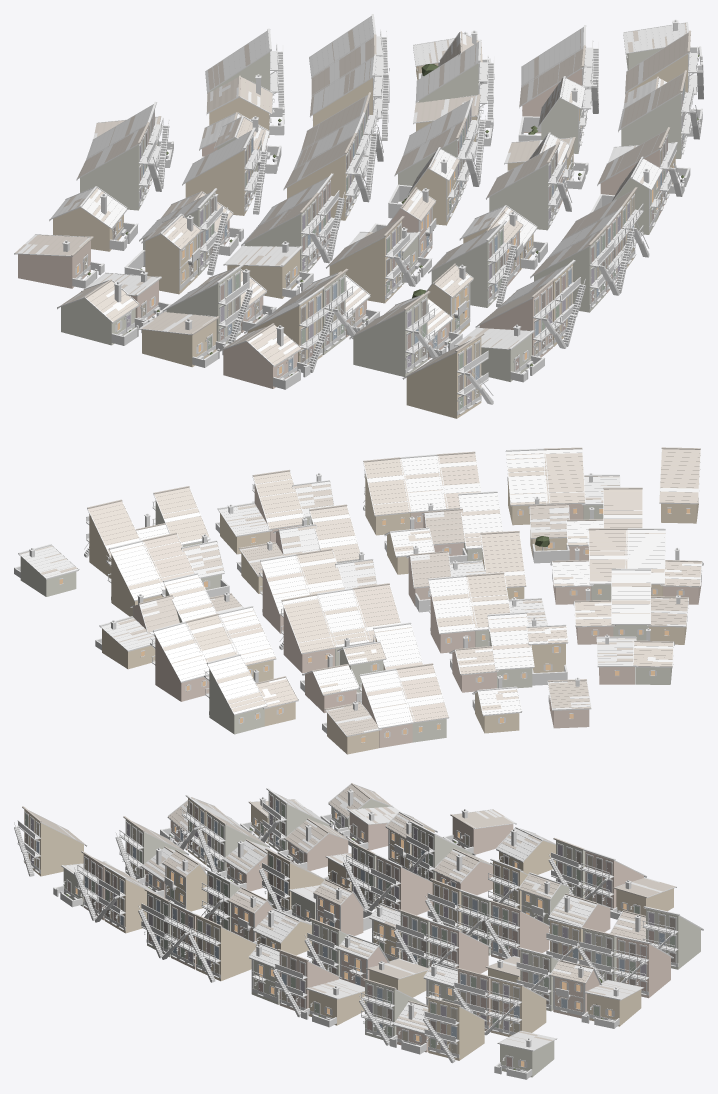
Rendered from moradas_SE.glb.
The picture shows the model from 3 angles, top to bottom: view 1: azimuth 30°, elevation 25°; view 2: azimuth 150°, elevation 25°; view 3: azimuth 270°, elevation 25°; orthographic projection. The views are drawn at different scales.
Parts seen in each view (by area): view 1: Morada_SE_054_Body, Morada_SE_042_Body, Morada_SE_011_Body, Morada_SE_003_Body, Morada_SE_032_Body, Morada_SE_048_Body, Morada_SE_008_Body, Morada_SE_045_Body, Morada_SE_064_Body, Morada_SE_028_Body, Morada_SE_001_Body, Morada_SE_016_Body (+86 smaller); view 2: Morada_SE_017_Roof, Morada_SE_054_Roof, Morada_SE_056_Roof, Morada_SE_021_Roof, Morada_SE_060_Roof, Morada_SE_009_Roof, Morada_SE_057_Roof, Morada_SE_003_Roof, Morada_SE_062_Roof, Morada_SE_004_Roof, Morada_SE_059_Roof, Morada_SE_024_Roof (+84 smaller); view 3: Morada_SE_054_Body, Morada_SE_060_Body, Morada_SE_066_Body, Morada_SE_053_Body, Morada_SE_024_Body, Morada_SE_021_Body, Morada_SE_027_Body, Morada_SE_057_Body, Morada_SE_015_Body, Morada_SE_037_Body, Morada_SE_062_Body, Morada_SE_032_Body (+76 smaller).
Part boxes in pixels (x1,y1,x2,y2): Morada_SE_054_Body: (406, 337, 493, 418); Morada_SE_042_Body: (353, 295, 440, 376); Morada_SE_011_Body: (185, 139, 267, 215); Morada_SE_003_Body: (80, 134, 162, 210); Morada_SE_032_Body: (329, 221, 415, 303); Morada_SE_048_Body: (489, 148, 572, 230); Morada_SE_008_Body: (124, 234, 200, 294); Morada_SE_045_Body: (431, 225, 517, 307); Morada_SE_064_Body: (621, 86, 699, 158); Morada_SE_028_Body: (223, 342, 310, 389); Morada_SE_001_Body: (18, 241, 104, 288); Morada_SE_016_Body: (142, 320, 229, 367); Morada_SE_017_Roof: (611, 568, 651, 624); Morada_SE_054_Roof: (659, 447, 700, 504); Morada_SE_056_Roof: (543, 447, 585, 504); Morada_SE_021_Roof: (428, 575, 477, 634); Morada_SE_060_Roof: (363, 457, 413, 516); Morada_SE_009_Roof: (487, 612, 534, 670); Morada_SE_057_Roof: (505, 448, 549, 506); Morada_SE_003_Roof: (396, 663, 448, 723); Morada_SE_062_Roof: (252, 469, 304, 530); Morada_SE_004_Roof: (359, 668, 415, 729); Morada_SE_059_Roof: (400, 454, 448, 512); Morada_SE_024_Roof: (281, 593, 337, 654); Morada_SE_054_Body: (14, 810, 83, 876); Morada_SE_060_Body: (188, 916, 256, 982); Morada_SE_066_Body: (423, 999, 484, 1063); Morada_SE_053_Body: (484, 978, 546, 1036); Morada_SE_024_Body: (484, 902, 549, 959); Morada_SE_021_Body: (367, 856, 432, 915); Morada_SE_027_Body: (613, 937, 670, 998); Morada_SE_057_Body: (95, 867, 146, 933); Morada_SE_015_Body: (642, 908, 700, 969); Morada_SE_037_Body: (425, 922, 488, 973); Morada_SE_062_Body: (273, 951, 338, 1017); Morada_SE_032_Body: (259, 851, 324, 911).
Size of what is drawn, in the model's own units: 114 by 15.17 by 114.
Materials: 22 (18 with a texture image).
